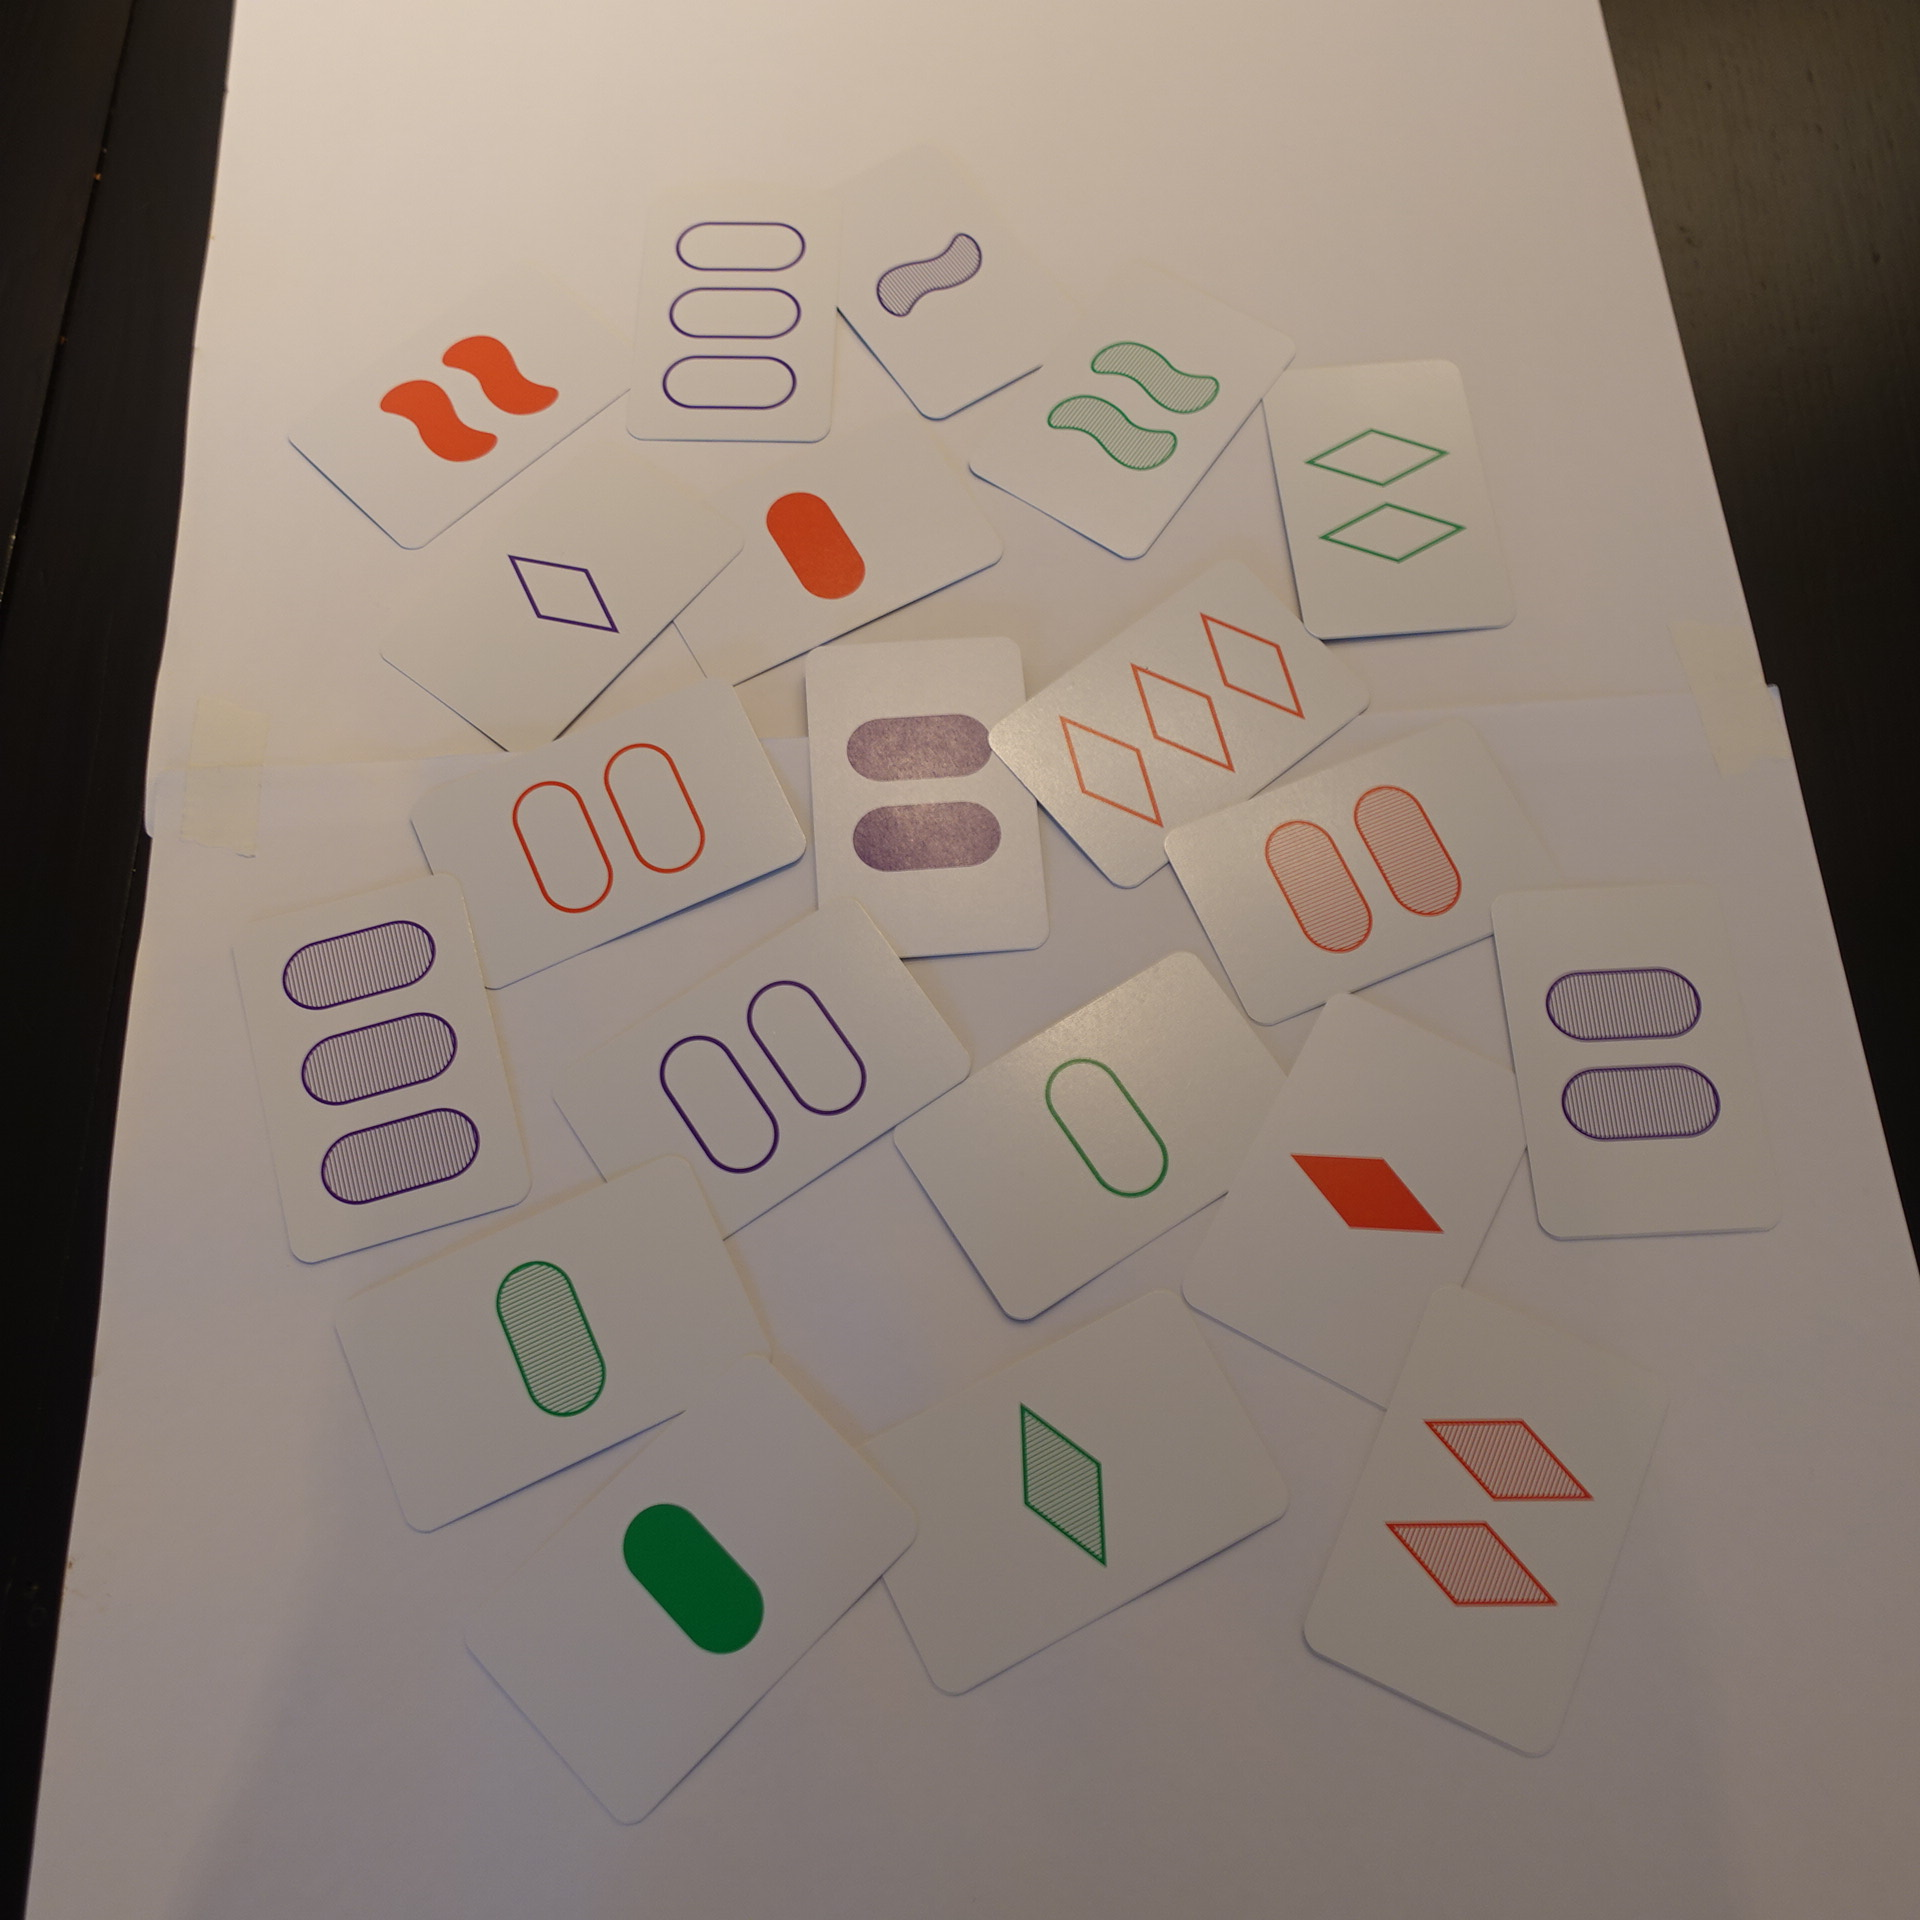c-1-f-d-g: (1169, 979, 1560, 1424)
c-1-f-o-g: (452, 1340, 935, 1834), (644, 401, 1009, 698)
c-1-h-d-g: (828, 1275, 1305, 1704)
c-1-h-o-g: (316, 1148, 788, 1540)
c-1-h-s-g: (786, 134, 1111, 425)
c-1-u-d-g: (367, 441, 760, 761)
c-1-u-o-g: (883, 942, 1319, 1327)
c-2-f-o-g: (796, 628, 1060, 974)
c-2-f-s-g: (273, 264, 644, 554)
c-2-h-d-g: (1296, 1273, 1684, 1769)
c-2-h-o-g: (1153, 707, 1584, 1029), (1480, 867, 1793, 1248)
c-2-h-s-g: (956, 253, 1306, 570)
c-2-u-d-g: (1250, 338, 1526, 649)
c-2-u-o-g: (540, 884, 981, 1269), (399, 670, 816, 999)
c-3-h-o-g: (215, 856, 540, 1271)
c-3-u-d-g: (985, 543, 1385, 897)
c-3-u-o-g: (621, 179, 849, 457)
